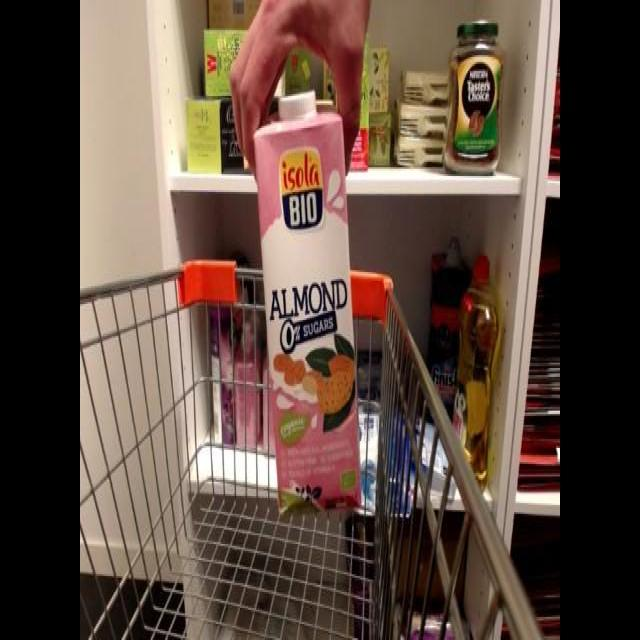Almond Milk: (250, 83, 367, 520)
